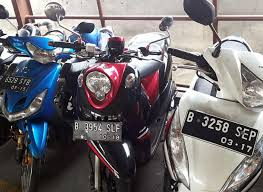plate: (182, 108, 258, 156), (73, 119, 122, 141), (1, 75, 30, 95)
